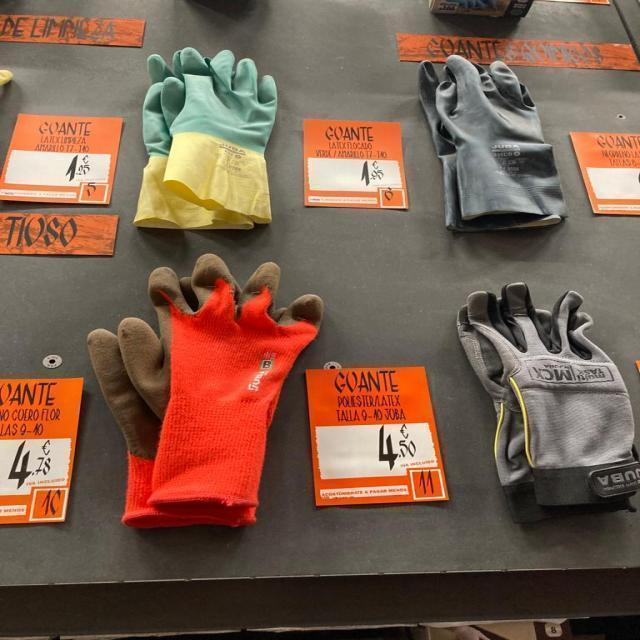gloved_hand: (76, 253, 329, 533), (444, 272, 640, 522), (395, 53, 592, 235), (123, 37, 293, 236)
